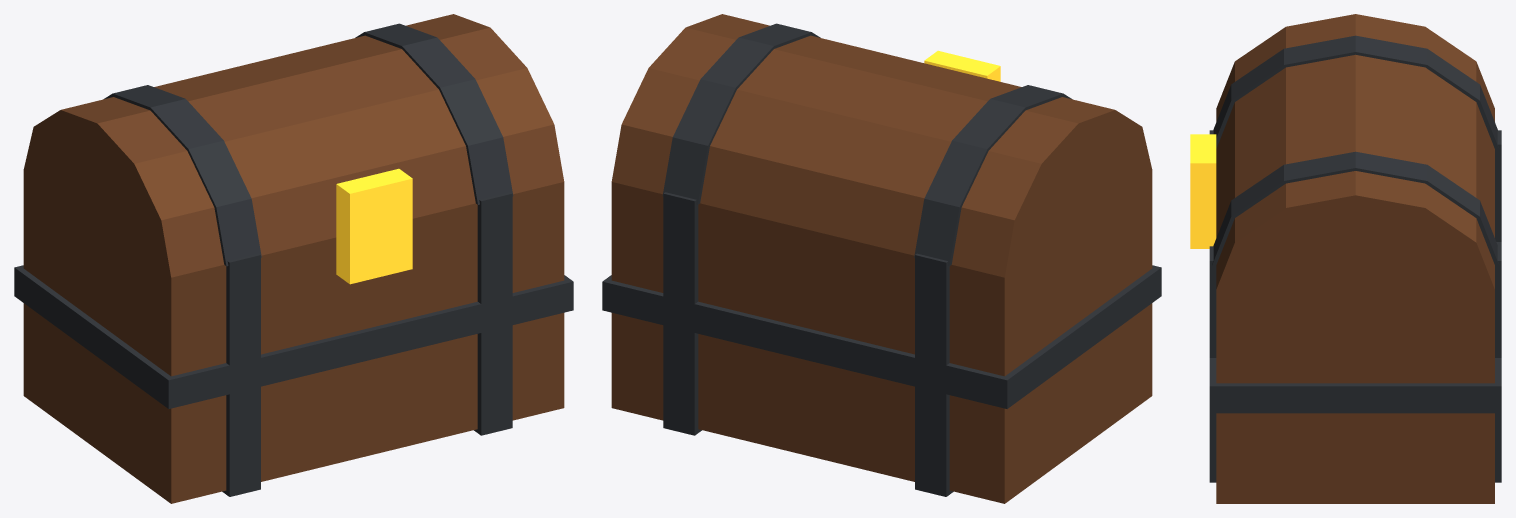
File: Chest.fbx
3 renders of one model, left to right at view 1: azimuth 30°, elevation 25°; view 2: azimuth 150°, elevation 25°; view 3: azimuth 270°, elevation 25°, orthographic. The views are drawn at different scales.
Parts seen in each view (by area): view 1: ChestBase, ChestLid; view 2: ChestBase, ChestLid; view 3: ChestLid, ChestBase.
Boxes of the visible parts, x1,y1,x2,y2 form: ChestBase: (14, 170, 573, 503); ChestLid: (23, 14, 564, 284); ChestBase: (602, 170, 1161, 503); ChestLid: (611, 14, 1152, 277); ChestLid: (1190, 14, 1499, 289); ChestBase: (1209, 130, 1501, 503).
Size of the model in its own units: 1.03 by 0.8111 by 0.725.
